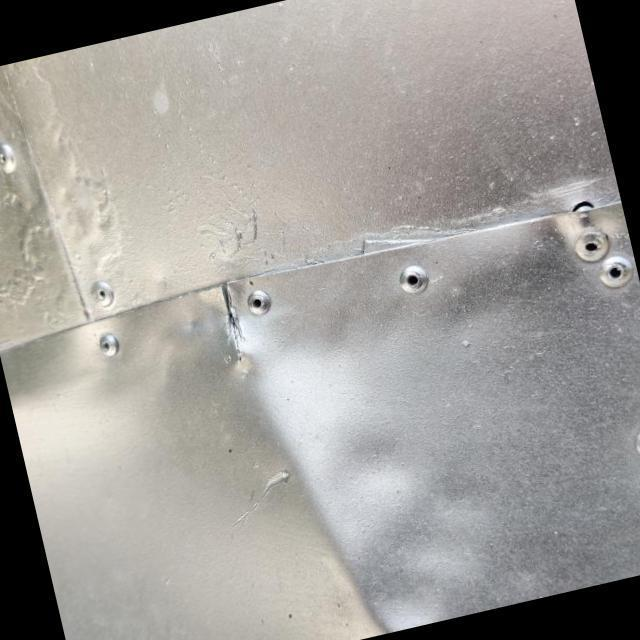Dent: (208, 332, 454, 640)
Rupture: (189, 265, 273, 380)
